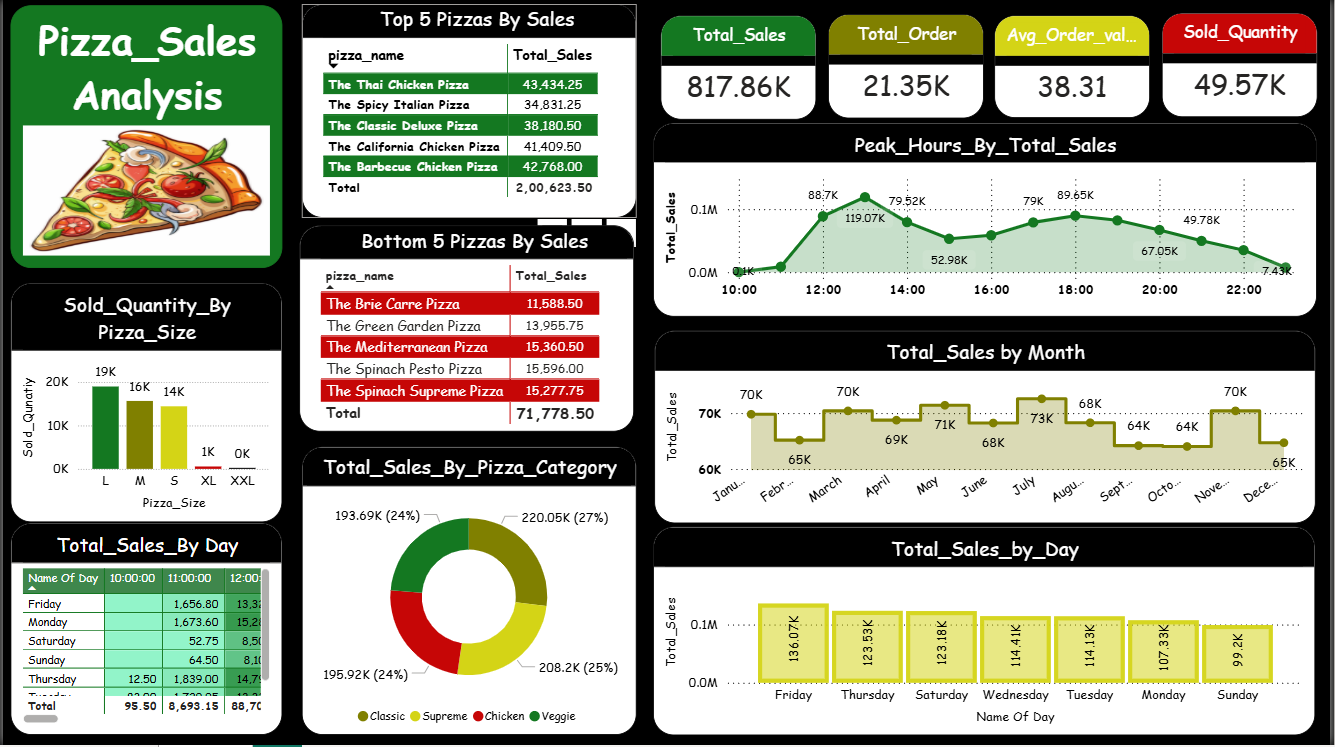

The page's visual inventory and layout, read from the dashboard file:
{"tool":"powerbi","page":{"name":"Page 1","canvas":[1280,720],"ordinal":0},"visuals":[{"type":"card","title":"Total_Sales","fields":{"Values":["pizza_sales.Total_Sales"]},"box":[634.8,15.9,150,101],"z":0},{"type":"card","title":"Total_Order","fields":{"Values":["pizza_sales.Total_Order"]},"box":[796.4,14.4,150,101],"z":1000},{"type":"card","title":"Sold_Quantity","fields":{"Values":["pizza_sales.Total_Pizza_Quantity"]},"box":[1118.1,13,150,101],"z":2000},{"type":"card","title":"Avg_Order_value","fields":{"Values":["pizza_sales.Avg_Order_value"]},"box":[956.6,15.9,150,99.6],"z":3000},{"type":"donutChart","title":"Total_Sales_By_Pizza_Category","fields":{"Category":["pizza_sales.pizza_category"],"Y":["pizza_sales.Total_Sales"]},"box":[288.6,431.4,323.2,278.5],"z":4000},{"type":"columnChart","title":"Sold_Quantity_By   Pizza_Size","fields":{"Category":["pizza_sales.pizza_size"],"Y":["Sum(pizza_sales.quantity)"]},"box":[7.2,274.1,262.6,230.8],"z":5000},{"type":"lineChart","fields":{"Category":["pizza_sales.order_date.Variation.Date Hierarchy.Month"],"Y":["pizza_sales.Total_Sales"]},"box":[628.3,319.2,638.4,186.3],"z":6000},{"type":"columnChart","title":"Total_Sales_by_Day","fields":{"Y":["pizza_sales.Total_Sales"],"Category":["pizza_sales.Name Of Day"]},"box":[627.6,509.3,639.1,202],"z":7000},{"type":"lineChart","title":"Peak_Hours_By_Total_Sales","fields":{"Y":["pizza_sales.Total_Sales"],"Category":["pizza_sales.Custom time"]},"box":[627.6,119.7,640.6,187.6],"z":8000},{"type":"pivotTable","title":"Top 5 Pizzas By Sales","fields":{"Values":["pizza_sales.Total_Sales"],"Rows":["pizza_sales.pizza_name"]},"box":[288.6,4.3,323.2,206.3],"z":9000},{"type":"pivotTable","title":"Bottom 5 Pizzas By Sales","fields":{"Values":["pizza_sales.Total_Sales"],"Rows":["pizza_sales.pizza_name"]},"box":[285.7,217.9,323.2,199.1],"z":10000},{"type":"image","title":"Pizza_Sales Analysis","box":[7.2,5.8,262.6,253.9],"z":11000},{"type":"pivotTable","title":"Total_Sales_By Day","fields":{"Values":["pizza_sales.Total_Sales"],"Columns":["pizza_sales.Custom time"],"Rows":["pizza_sales.Name Of Day"]},"box":[7.2,505,262.6,204.9],"z":12000}]}

Visuals, with their boxes in screenshot pixels (x1, y1, x2, y2), scaled from the page's 1280x720 canvas onto the 1335x747 screenshot:
"Total_Sales" card: 662:16:819:121
"Total_Order" card: 831:15:987:120
"Sold_Quantity" card: 1166:13:1323:118
"Avg_Order_value" card: 998:16:1154:120
"Total_Sales_By_Pizza_Category" donutChart: 301:448:638:737
"Sold_Quantity_By   Pizza_Size" columnChart: 8:284:281:524
lineChart - pizza_sales.order_date.Variation.Date Hierarchy.Month x pizza_sales.Total_Sales: 655:331:1321:524
"Total_Sales_by_Day" columnChart: 655:528:1321:738
"Peak_Hours_By_Total_Sales" lineChart: 655:124:1323:319
"Top 5 Pizzas By Sales" pivotTable: 301:4:638:218
"Bottom 5 Pizzas By Sales" pivotTable: 298:226:635:433
"Pizza_Sales Analysis" image: 8:6:281:269
"Total_Sales_By Day" pivotTable: 8:524:281:737
